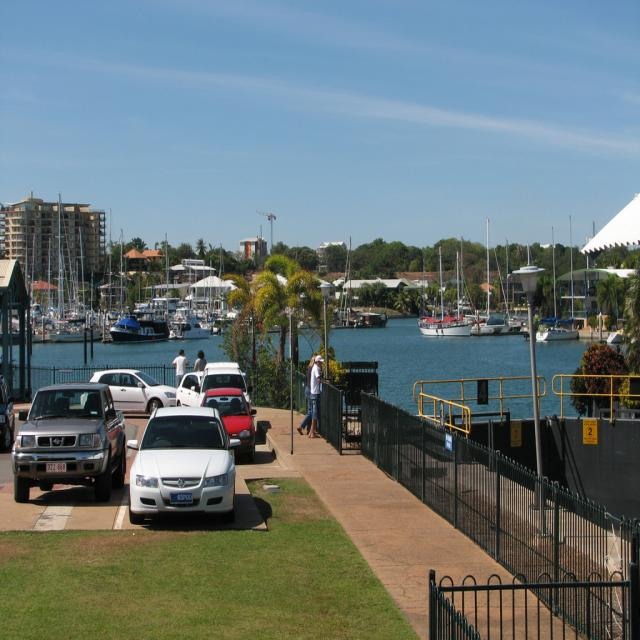car: (8, 380, 126, 501)
